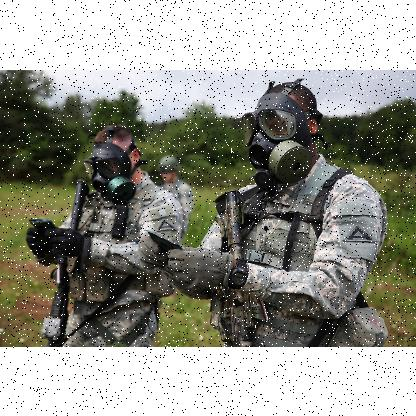gun: (42, 180, 88, 346)
